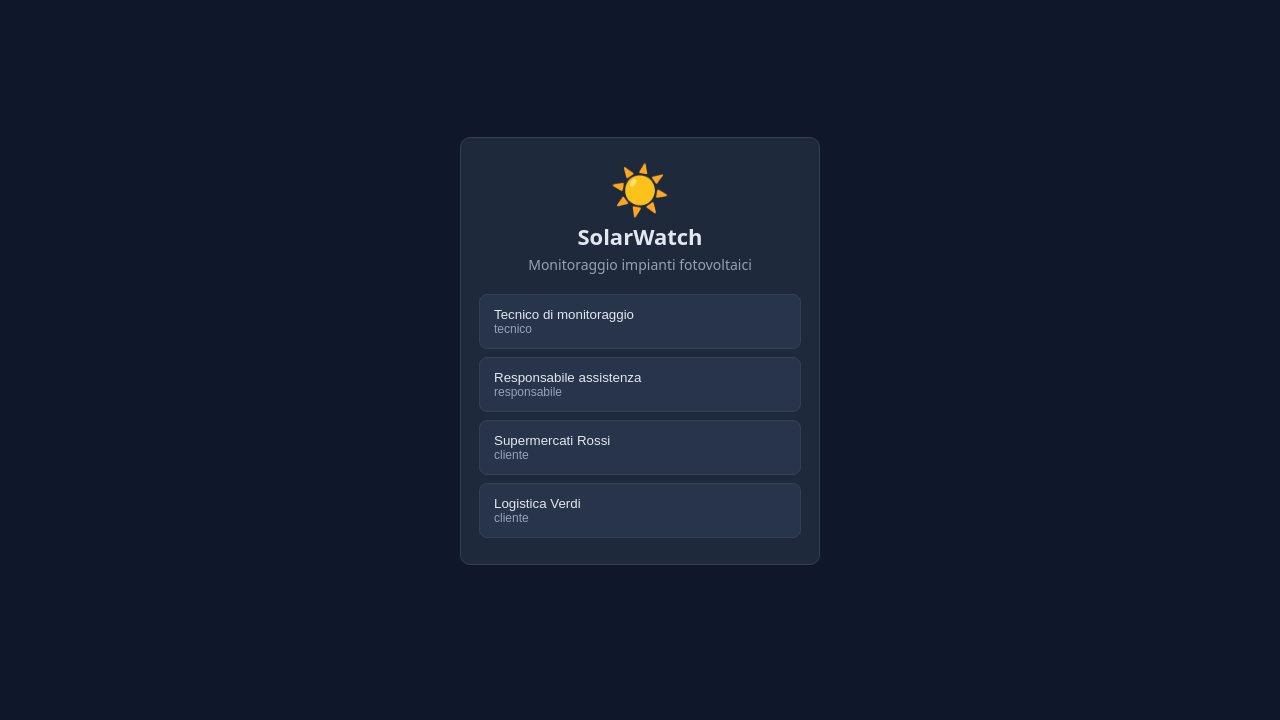
Test: SolarWatch - navigazione tecnico › mostra il form per aggiungere un impianto
This screenshot has width=1280, height=720.
Click the button with test id "login-tecnico".
click(564, 315)  # box [479,294,801,349]
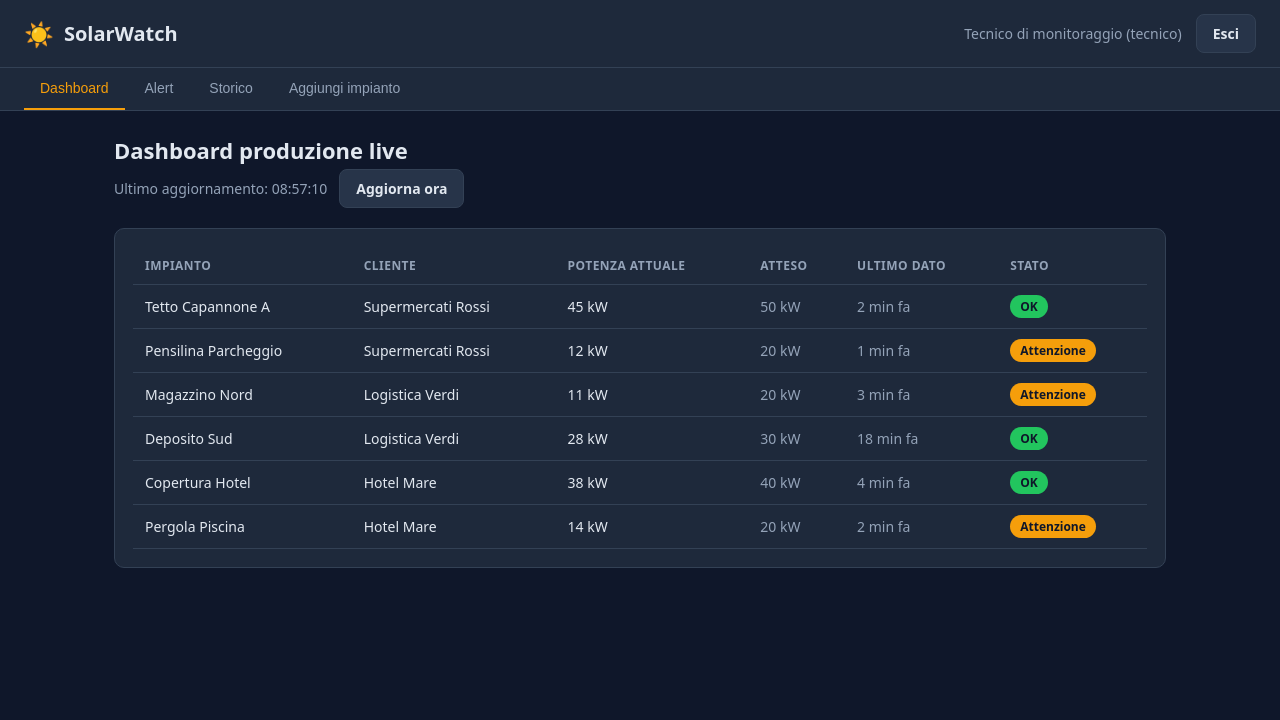
Click the button with test id "nav-addplant".
click(345, 89)  # box [273,68,416,110]
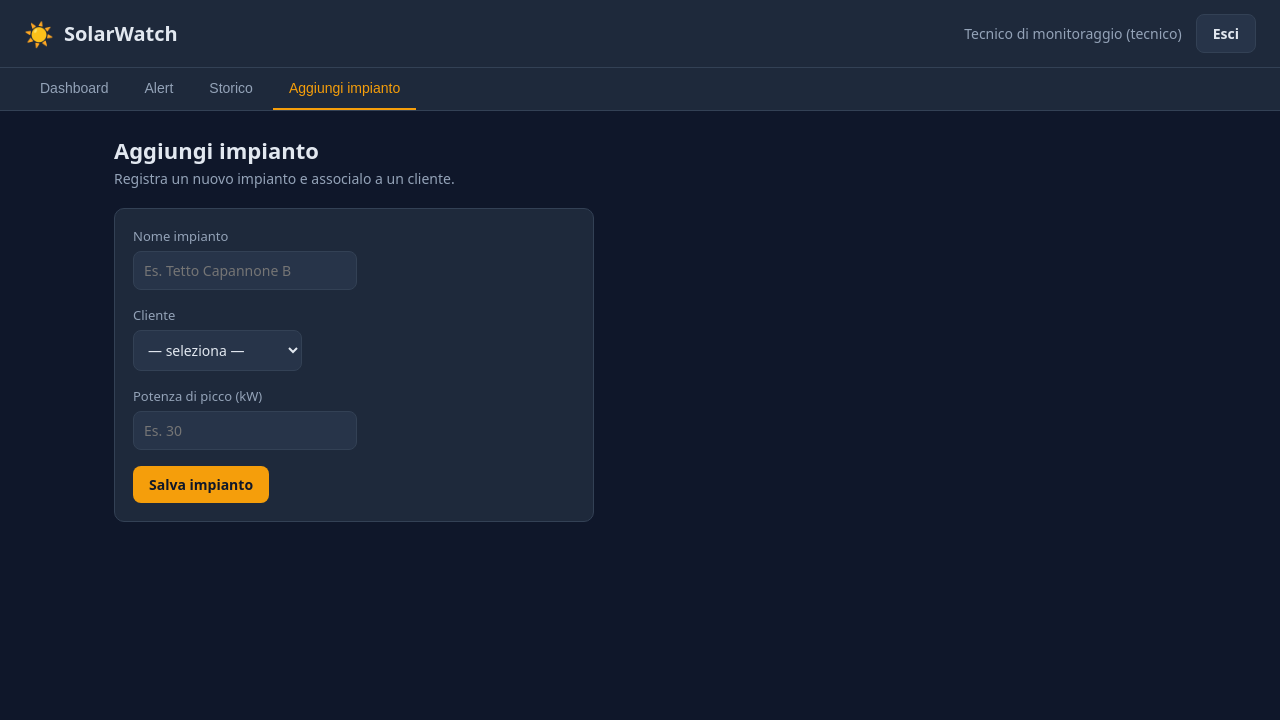
Result: the field with test id "addplant-name" is shown at [133,251,357,290]
Result: the button with test id "addplant-submit" is shown at [133,466,269,503]
